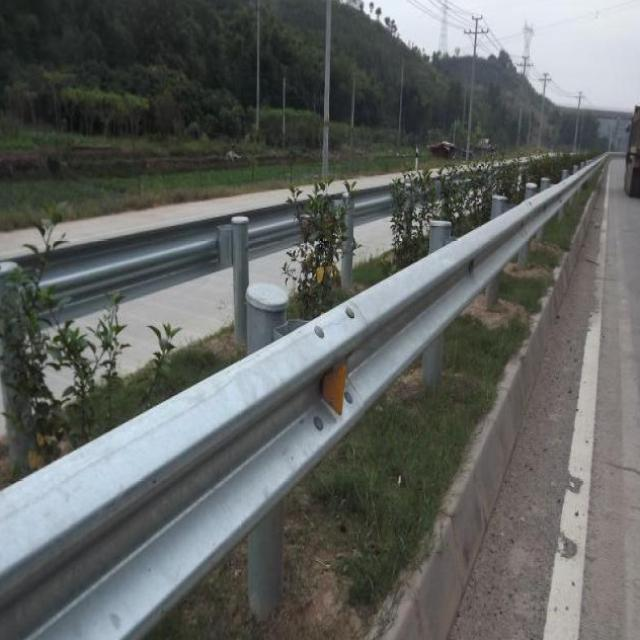Guard rail: (0, 158, 605, 640), (43, 206, 232, 320), (245, 204, 299, 257), (356, 187, 393, 223)
